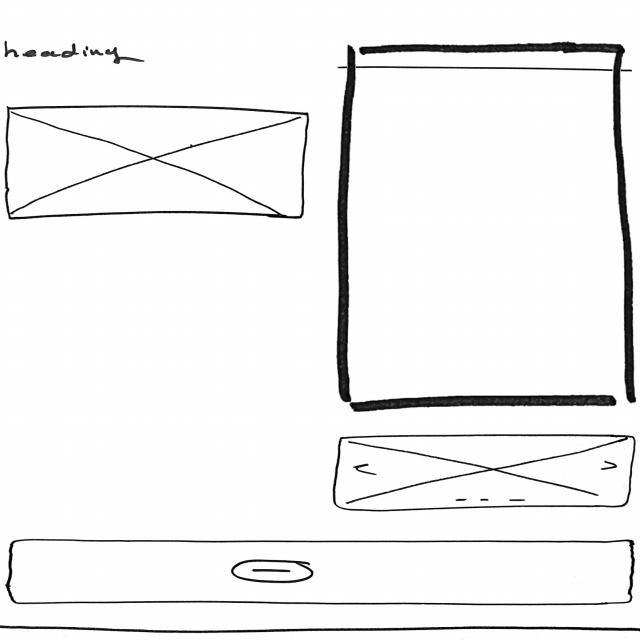container: (336, 42, 640, 414), (8, 538, 639, 611), (1, 625, 640, 640)
icon-button: (231, 561, 317, 585)
image: (5, 105, 314, 221), (332, 435, 636, 512)
label: (1, 41, 141, 66)
